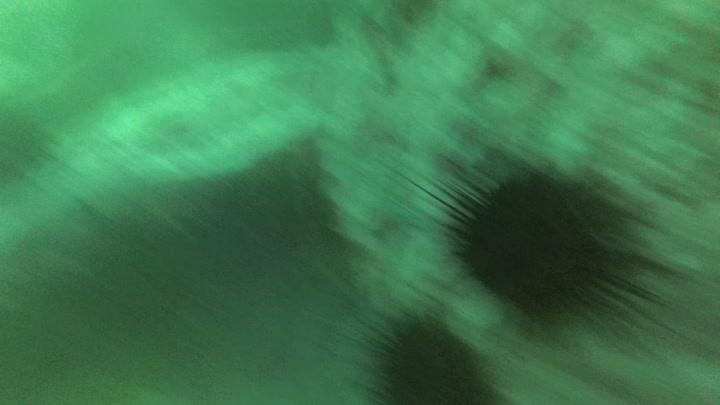urchin: (433, 157, 662, 339), (359, 305, 497, 405)
